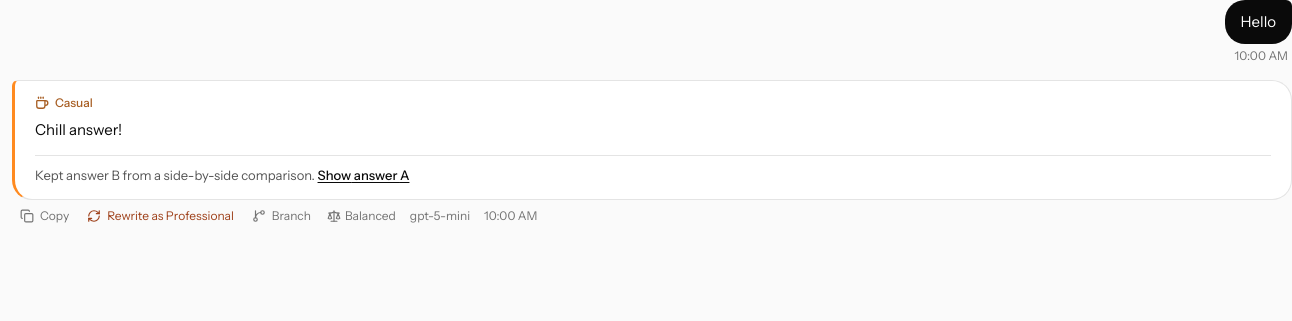
Scenario: compare replies › after choosing, shows the kept answer and can reveal the other
Check: the element named "Casual reply" shows "Chill answer!", box left=35, top=120, right=122, bottom=139
Check: the text "Kept answer B from a side-by-side comparison. Show answer A" is shown, box left=35, top=166, right=410, bottom=185
Click the button "Show answer A" at point(363, 175), box left=318, top=166, right=409, bottom=185
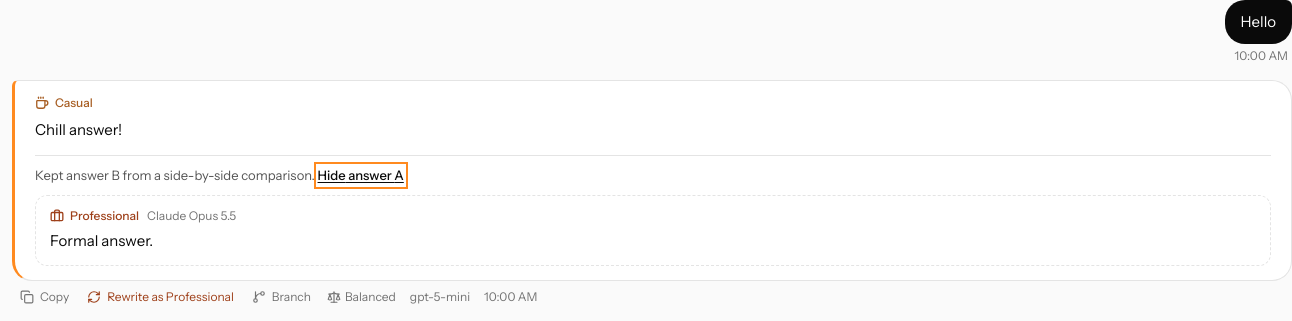
Check: the text "Formal answer." is shown, box left=50, top=231, right=153, bottom=250
